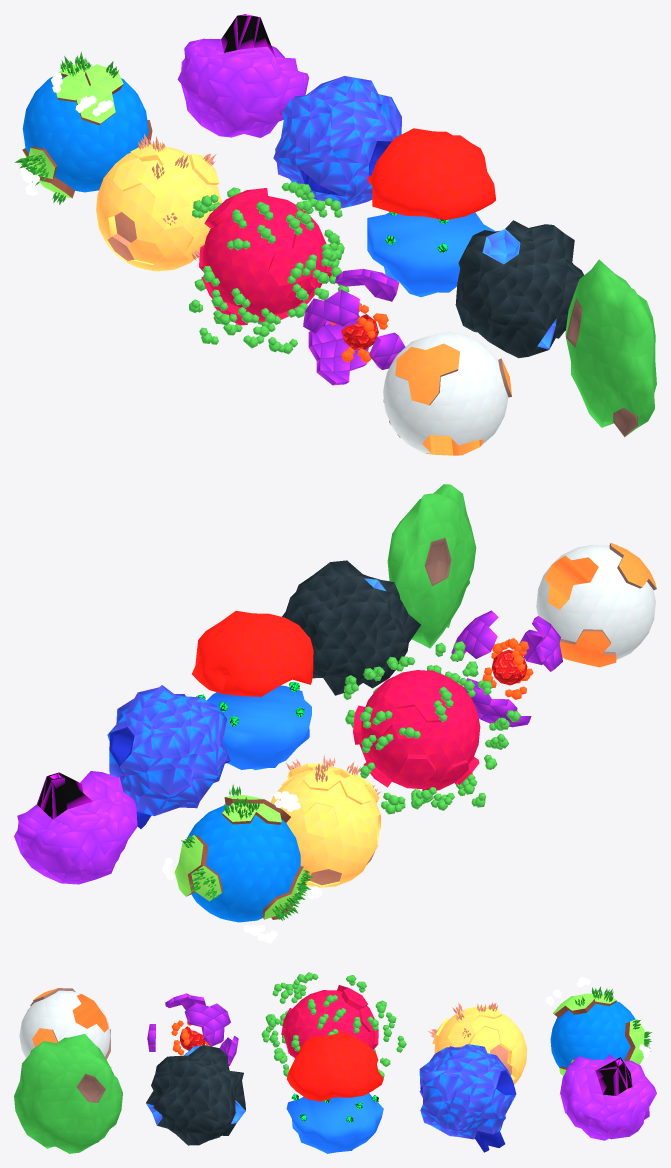
The model's file is Planetas.fbx.
3 views of the same model, one above another, from view 1: azimuth 30°, elevation 25°; view 2: azimuth 150°, elevation 25°; view 3: azimuth 270°, elevation 25° (orthographic). The views are drawn at different scales.
Parts seen in each view (by area): view 1: Planeta.002, Asteroide, Asteroide.002, Planeta.004, Planeta, Planeta.001, Asteroide.001, Asteroide.003, Asteroide.004, Planeta.003; view 2: Planeta.002, Asteroide, Planeta.004, Asteroide.003, Planeta, Asteroide.002, Asteroide.004, Asteroide.001, Planeta.001, Planeta.003; view 3: Asteroide.001, Asteroide, Asteroide.003, Asteroide.002, Planeta.002, Asteroide.004, Planeta.004, Planeta, Planeta.001, Planeta.003.
Boxes of the visible parts, bbox=[...] form: Planeta.002: bbox=[189, 181, 349, 354]; Asteroide: bbox=[366, 128, 495, 297]; Asteroide.002: bbox=[455, 220, 583, 358]; Planeta.004: bbox=[14, 51, 152, 204]; Planeta: bbox=[383, 331, 511, 455]; Planeta.001: bbox=[96, 133, 222, 271]; Asteroide.001: bbox=[565, 259, 656, 437]; Asteroide.003: bbox=[273, 76, 401, 208]; Asteroide.004: bbox=[177, 14, 308, 137]; Planeta.003: bbox=[303, 269, 405, 385]; Planeta.002: bbox=[343, 641, 520, 814]; Asteroide: bbox=[192, 610, 313, 770]; Planeta.004: bbox=[162, 784, 321, 943]; Asteroide.003: bbox=[107, 685, 230, 828]; Planeta: bbox=[536, 543, 656, 667]; Asteroide.002: bbox=[282, 560, 420, 695]; Asteroide.004: bbox=[14, 771, 137, 884]; Asteroide.001: bbox=[387, 484, 476, 648]; Planeta.001: bbox=[271, 754, 380, 887]; Planeta.003: bbox=[451, 610, 562, 727]; Asteroide.001: bbox=[14, 1034, 122, 1153]; Asteroide: bbox=[286, 1031, 383, 1153]; Asteroide.003: bbox=[419, 1044, 516, 1152]; Asteroide.002: bbox=[146, 1045, 245, 1145]; Planeta.002: bbox=[261, 972, 406, 1077]; Asteroide.004: bbox=[560, 1054, 656, 1140]; Planeta.004: bbox=[545, 977, 651, 1093]; Planeta: bbox=[19, 988, 110, 1059]; Planeta.001: bbox=[428, 1002, 526, 1084]; Planeta.003: bbox=[147, 993, 238, 1066].
Bounding box in the file's own units: 5.74 × 2.99 × 14.06.
